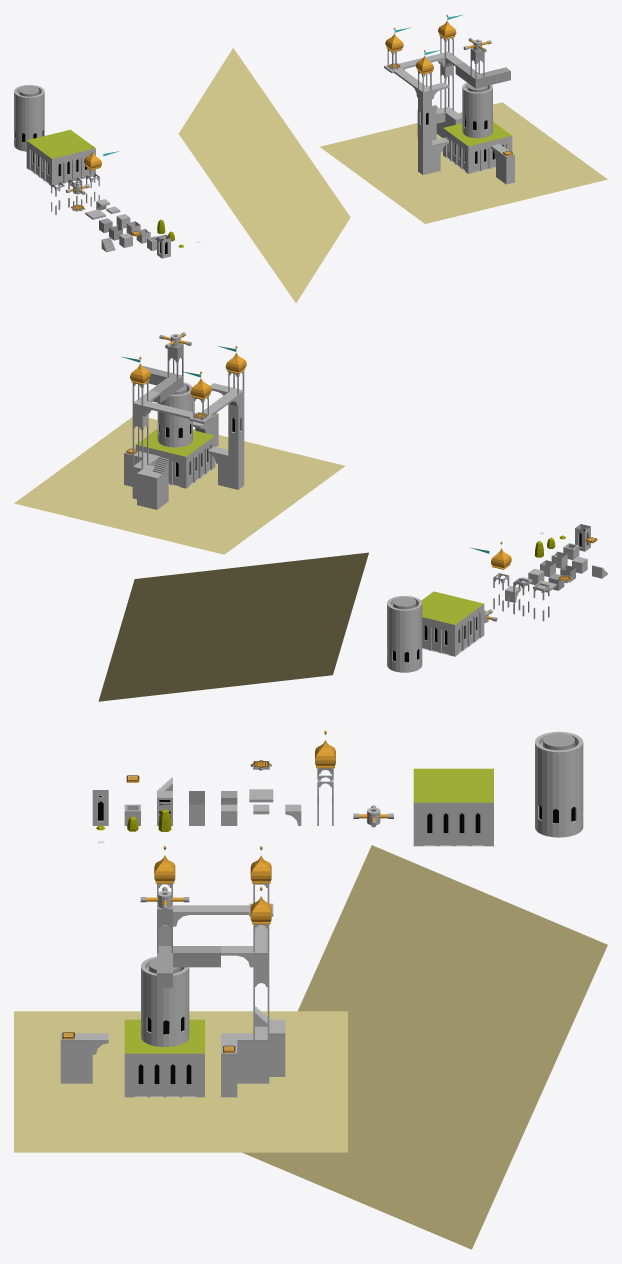
The model's file is monument_valley_scene_2.fbx.
The picture shows the model from 3 angles, top to bottom: view 1: azimuth 30°, elevation 25°; view 2: azimuth 150°, elevation 25°; view 3: azimuth 270°, elevation 25°; orthographic projection. The views are drawn at different scales.
Parts seen in each view (by area): view 1: ground.001, ground, main_platform, main_platform.001, tower, tower.001; view 2: ground.001, ground, main_platform, tower, main_platform.001, tower.001; view 3: ground.001, ground, main_platform, main_platform.001, tower, tower.001.
Boxes of the visible parts, x1,y1,x2,y2 form: ground.001: [178, 48, 350, 302]; ground: [320, 102, 607, 223]; main_platform: [26, 129, 95, 185]; main_platform.001: [443, 122, 512, 173]; tower: [14, 85, 44, 151]; tower.001: [462, 82, 492, 138]; ground.001: [98, 552, 368, 701]; ground: [14, 417, 344, 554]; main_platform: [421, 591, 484, 656]; tower: [387, 595, 422, 672]; main_platform.001: [135, 429, 215, 488]; tower.001: [157, 382, 192, 447]; ground.001: [242, 845, 607, 1249]; ground: [14, 1011, 347, 1152]; main_platform: [413, 768, 493, 846]; main_platform.001: [124, 1019, 204, 1097]; tower: [535, 731, 583, 837]; tower.001: [141, 956, 189, 1046].
Size of the model in its own units: 5207 by 2656 by 3700.
